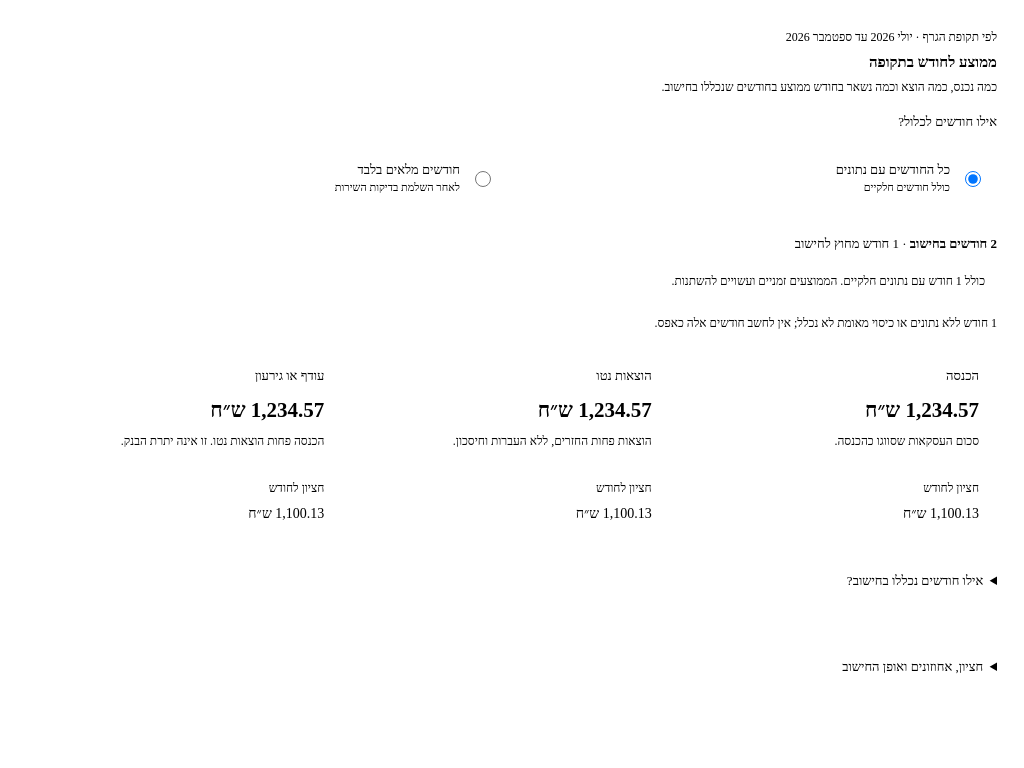
Test: monthly statistics presentation › separates missing and excluded partial months without turning them into zeroes
The width and height of the screenshot is (1024, 768).
Expected: the text "1 חודש ללא נתונים או כיסוי מאומת לא נכלל" is shown, [655, 316, 997, 330]
Expected: the text "כולל 1 חודש עם נתונים חלקיים" is shown, [672, 274, 985, 288]
Click the radio button labelled "חודשים מלאים בלבד לאחר השלמת בדיקות השירות" at (483, 179), box [475, 171, 491, 187]
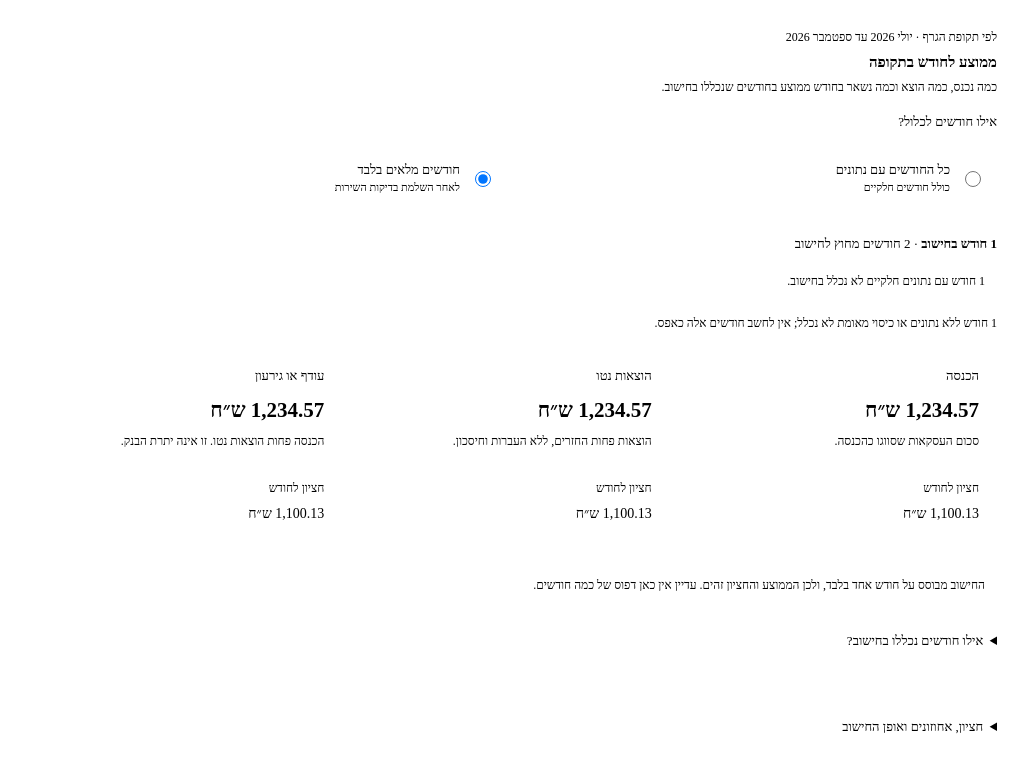
Expected: the text "1 חודש בחישוב" is shown, [921, 236, 997, 251]
Expected: the text "1 חודש בחישוב · 2 חודשים מחוץ לחישוב" is shown, [795, 236, 997, 251]
Click the heading "אילו חודשים נכללו בחישוב?" at (915, 640), box [847, 633, 983, 648]
(page scrolled)
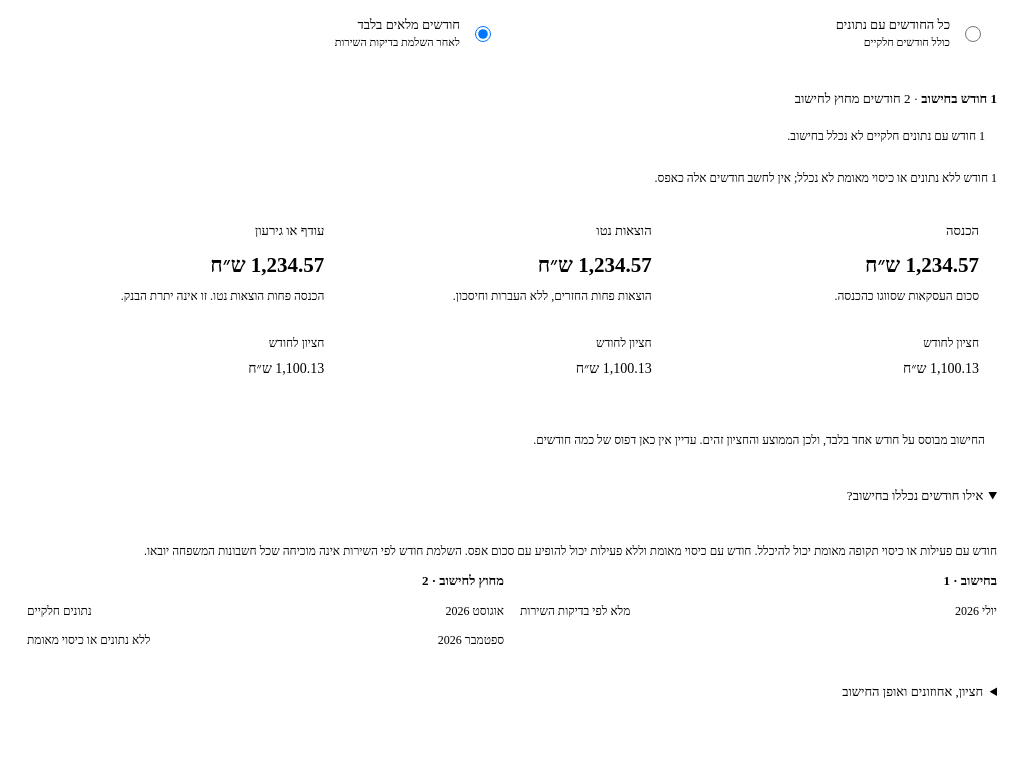
Expected: the list item "אוגוסט 2026" shows "נתונים חלקיים", [27, 604, 92, 618]
Expected: the list item "ספטמבר 2026" shows "ללא נתונים או כיסוי מאומת", [27, 633, 150, 647]
Click the heading "חציון, אחוזונים ואופן החישוב" at (913, 692), box [842, 684, 983, 699]
(page scrolled)
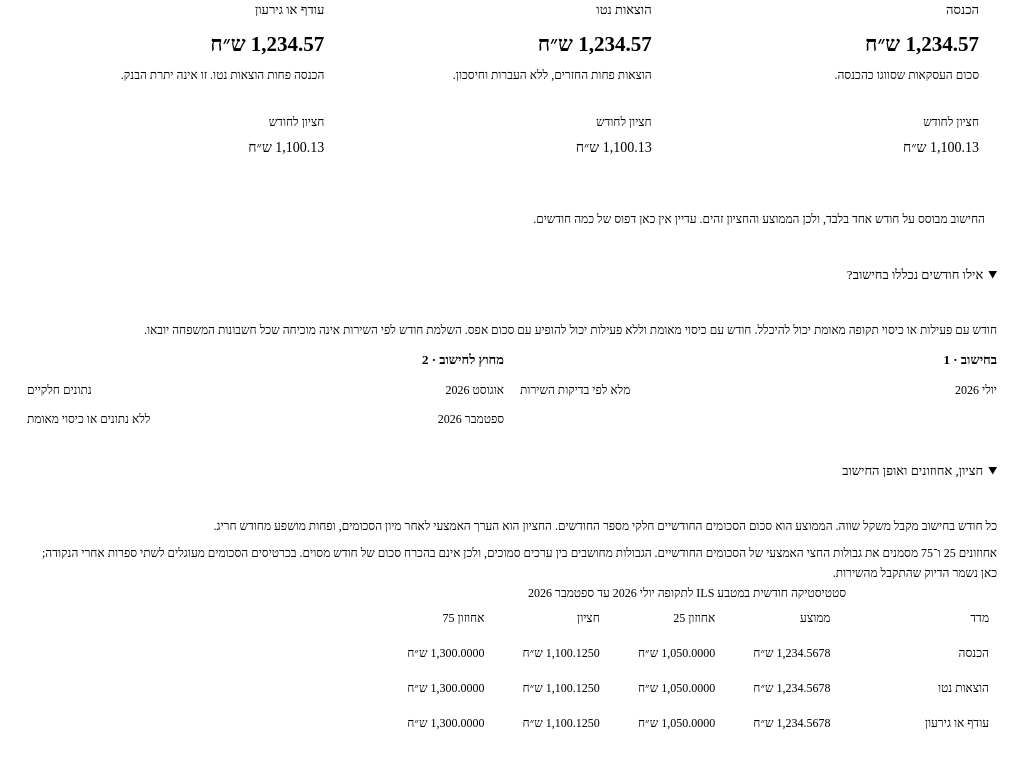
Expected: the 1st text "1,234.5678 ש״ח" is shown, [753, 646, 830, 660]
